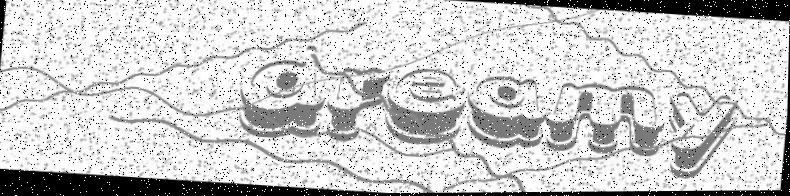a: (465, 72, 548, 152)
d: (235, 38, 333, 142)
e: (386, 66, 470, 151)
m: (544, 78, 671, 163)
r: (325, 61, 392, 144)
y: (664, 89, 737, 186)
